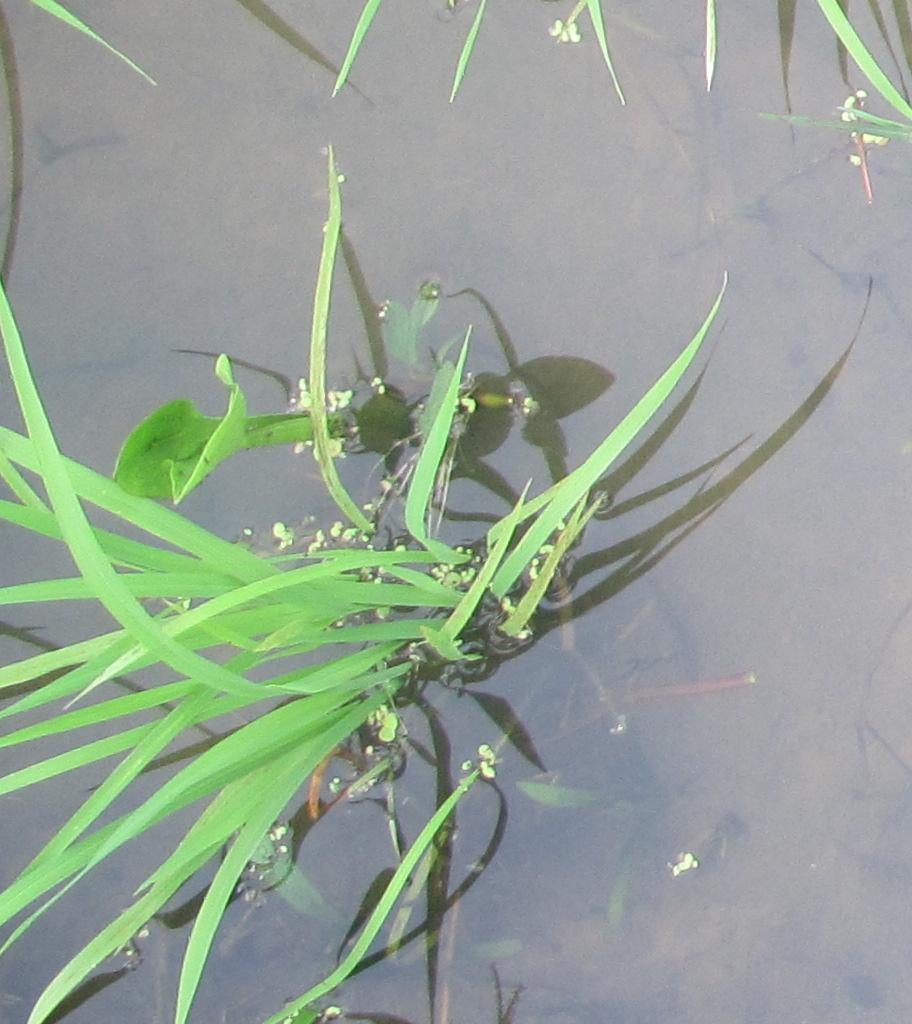Weed: (110, 392, 341, 524)
